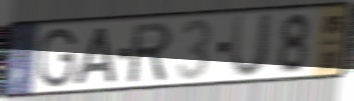3: (176, 17, 216, 83)
8: (276, 11, 313, 76)
A: (71, 25, 119, 88)
G: (37, 26, 79, 90)
R: (128, 20, 174, 86)
U: (227, 11, 276, 80)
